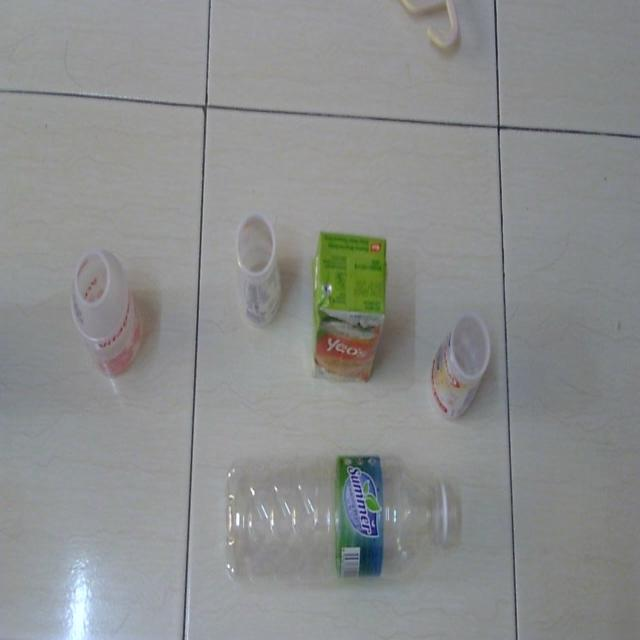plastic_laydown_0rotation: (222, 450, 459, 592)
plastic_standrotation: (305, 222, 388, 388), (71, 250, 149, 390), (429, 306, 495, 427), (229, 204, 286, 332)
